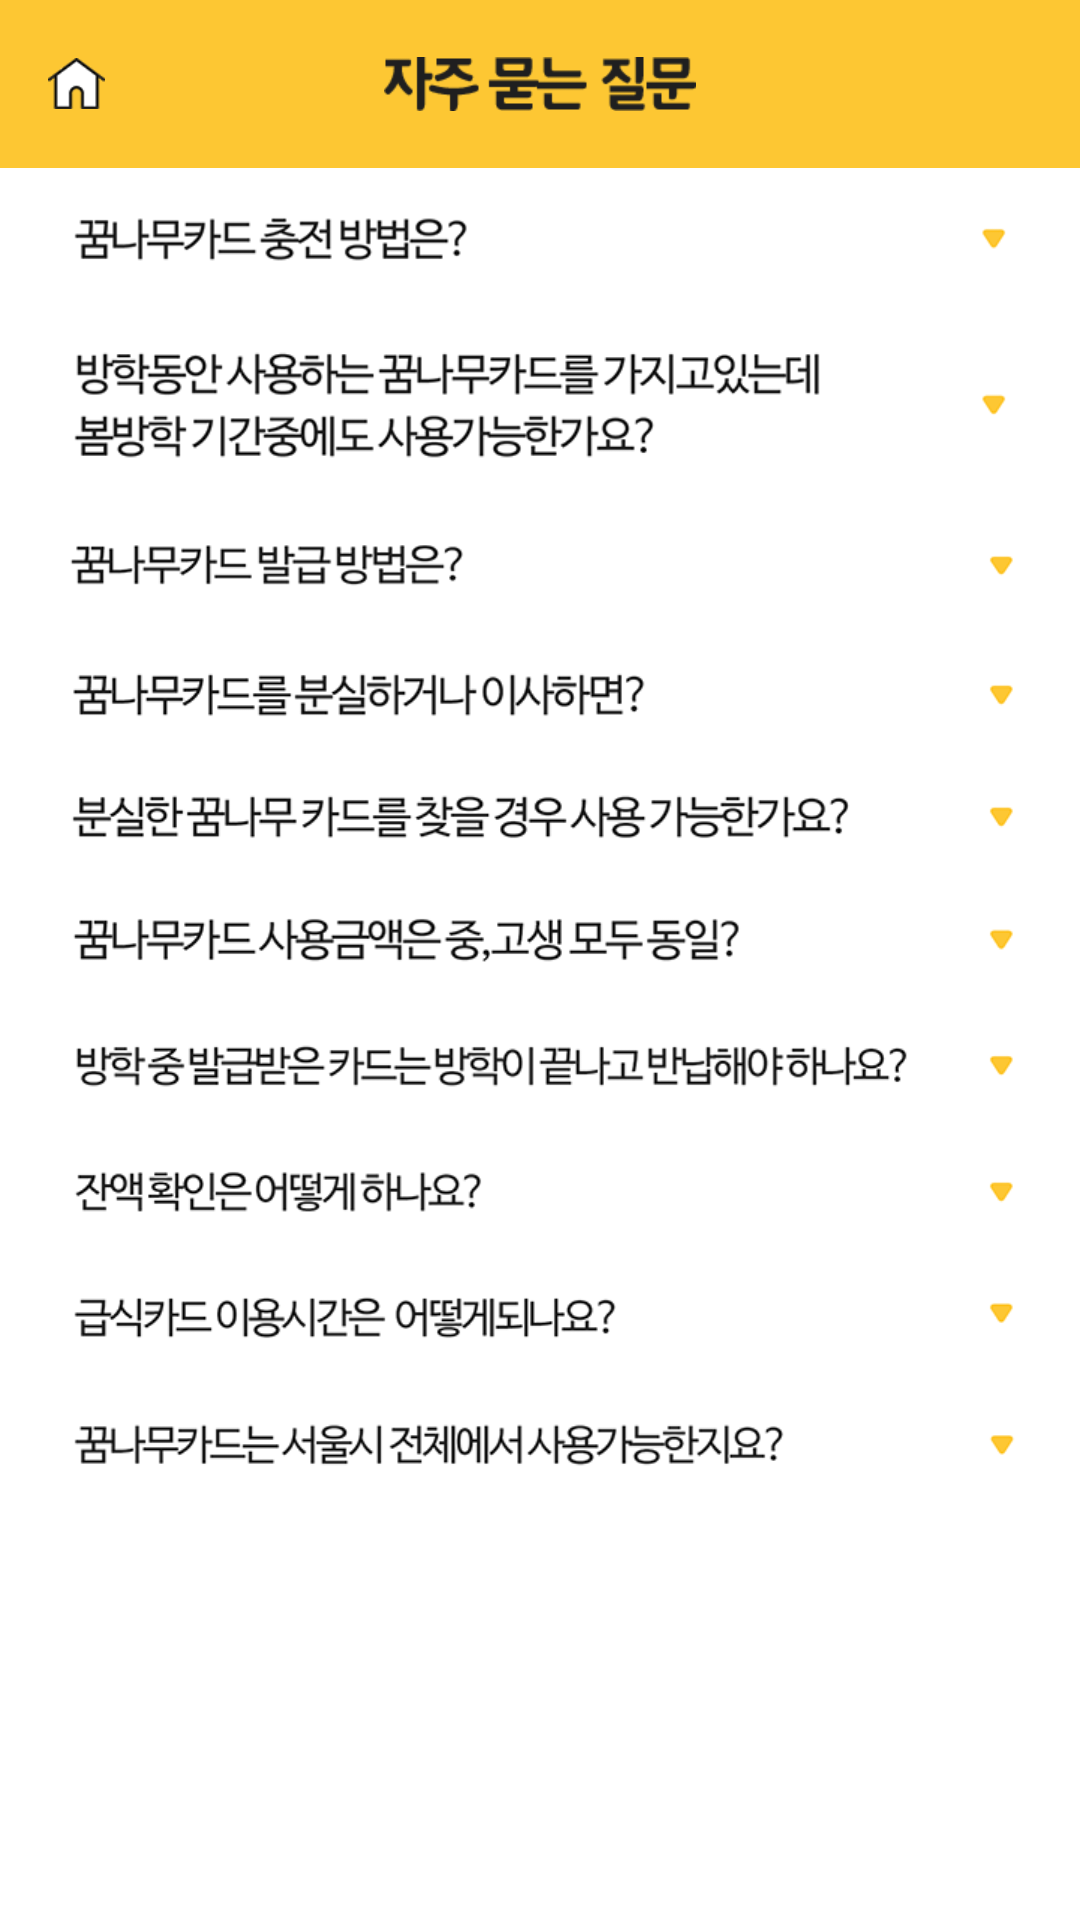

Locate icon controls on the screen. Image size 1080w x 1920h, boxes as (x1, y1, x2, y2).
card home: (48, 58, 105, 109)
